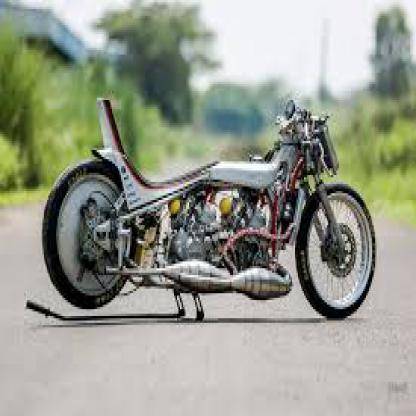Motorcycle: (24, 86, 384, 344)
